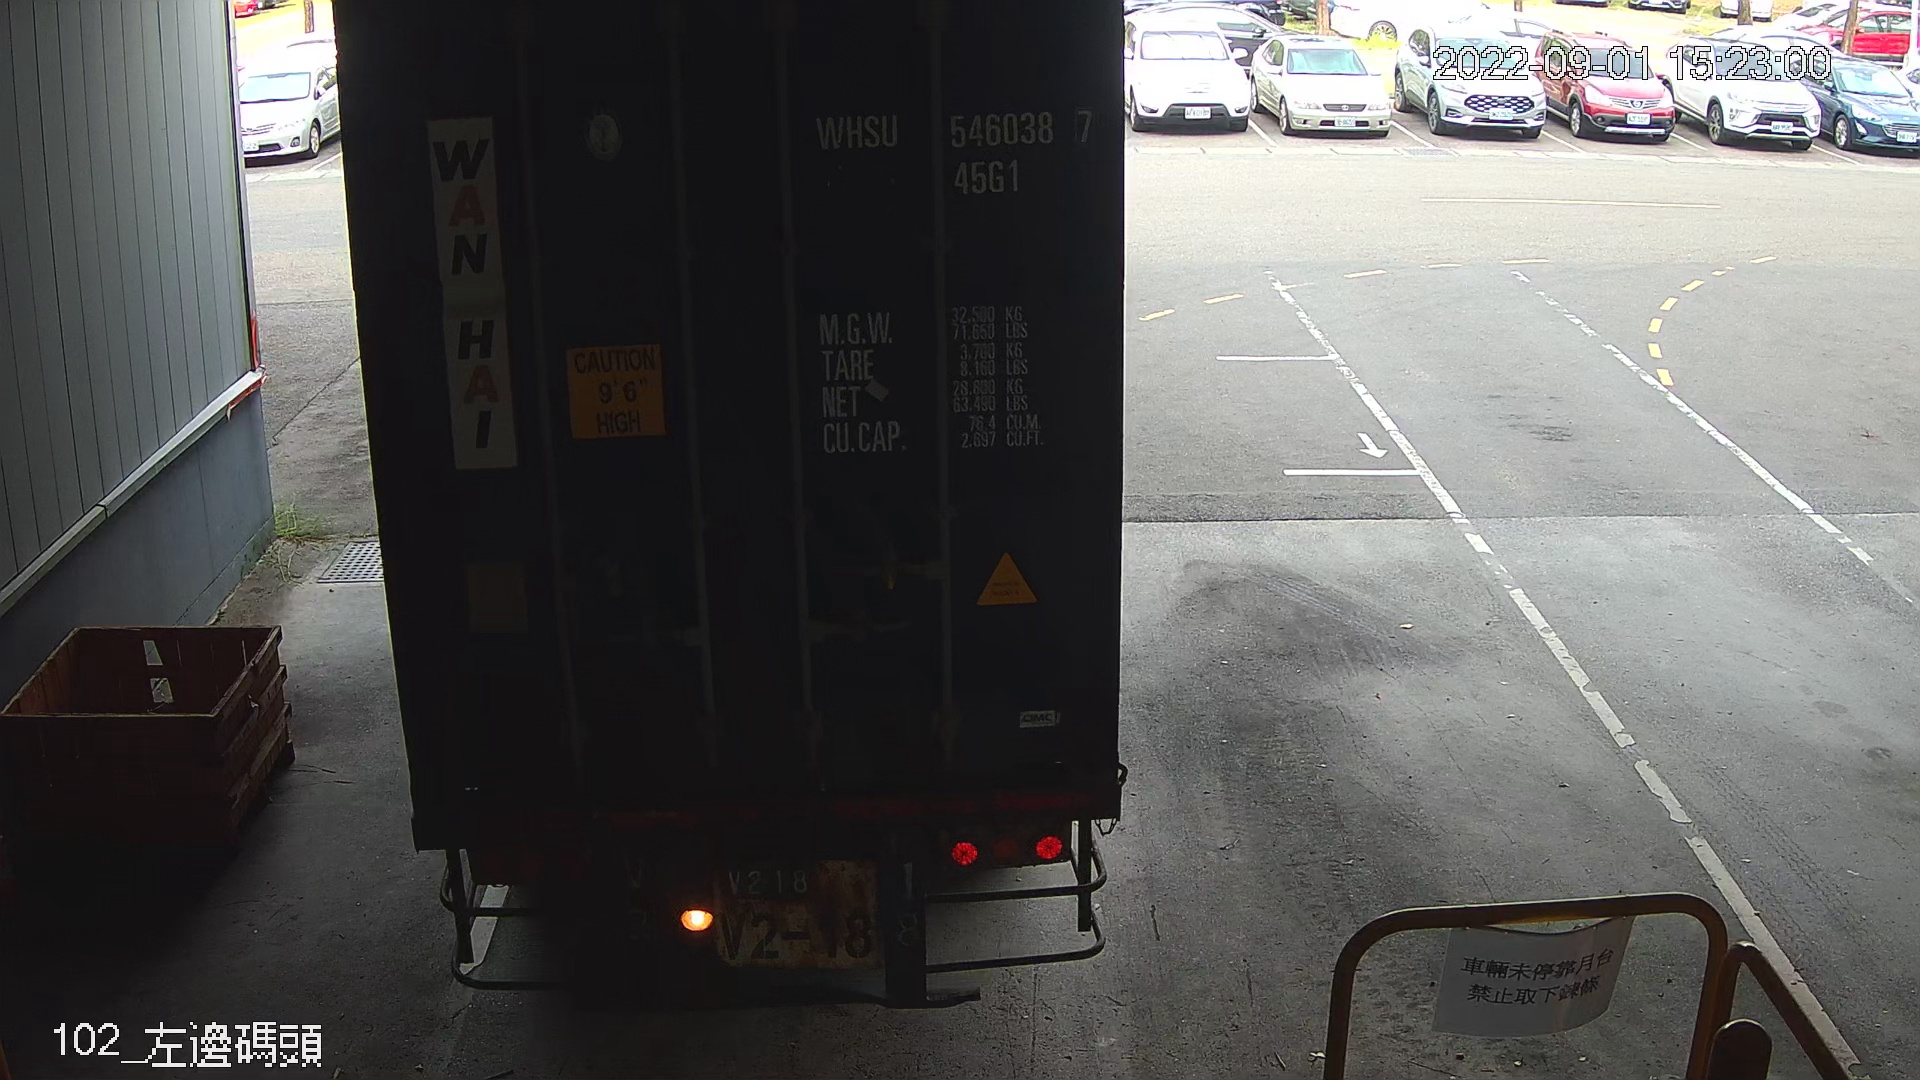container: (803, 92, 1110, 208)
